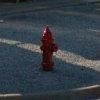Hydrant: (30, 17, 66, 76)
